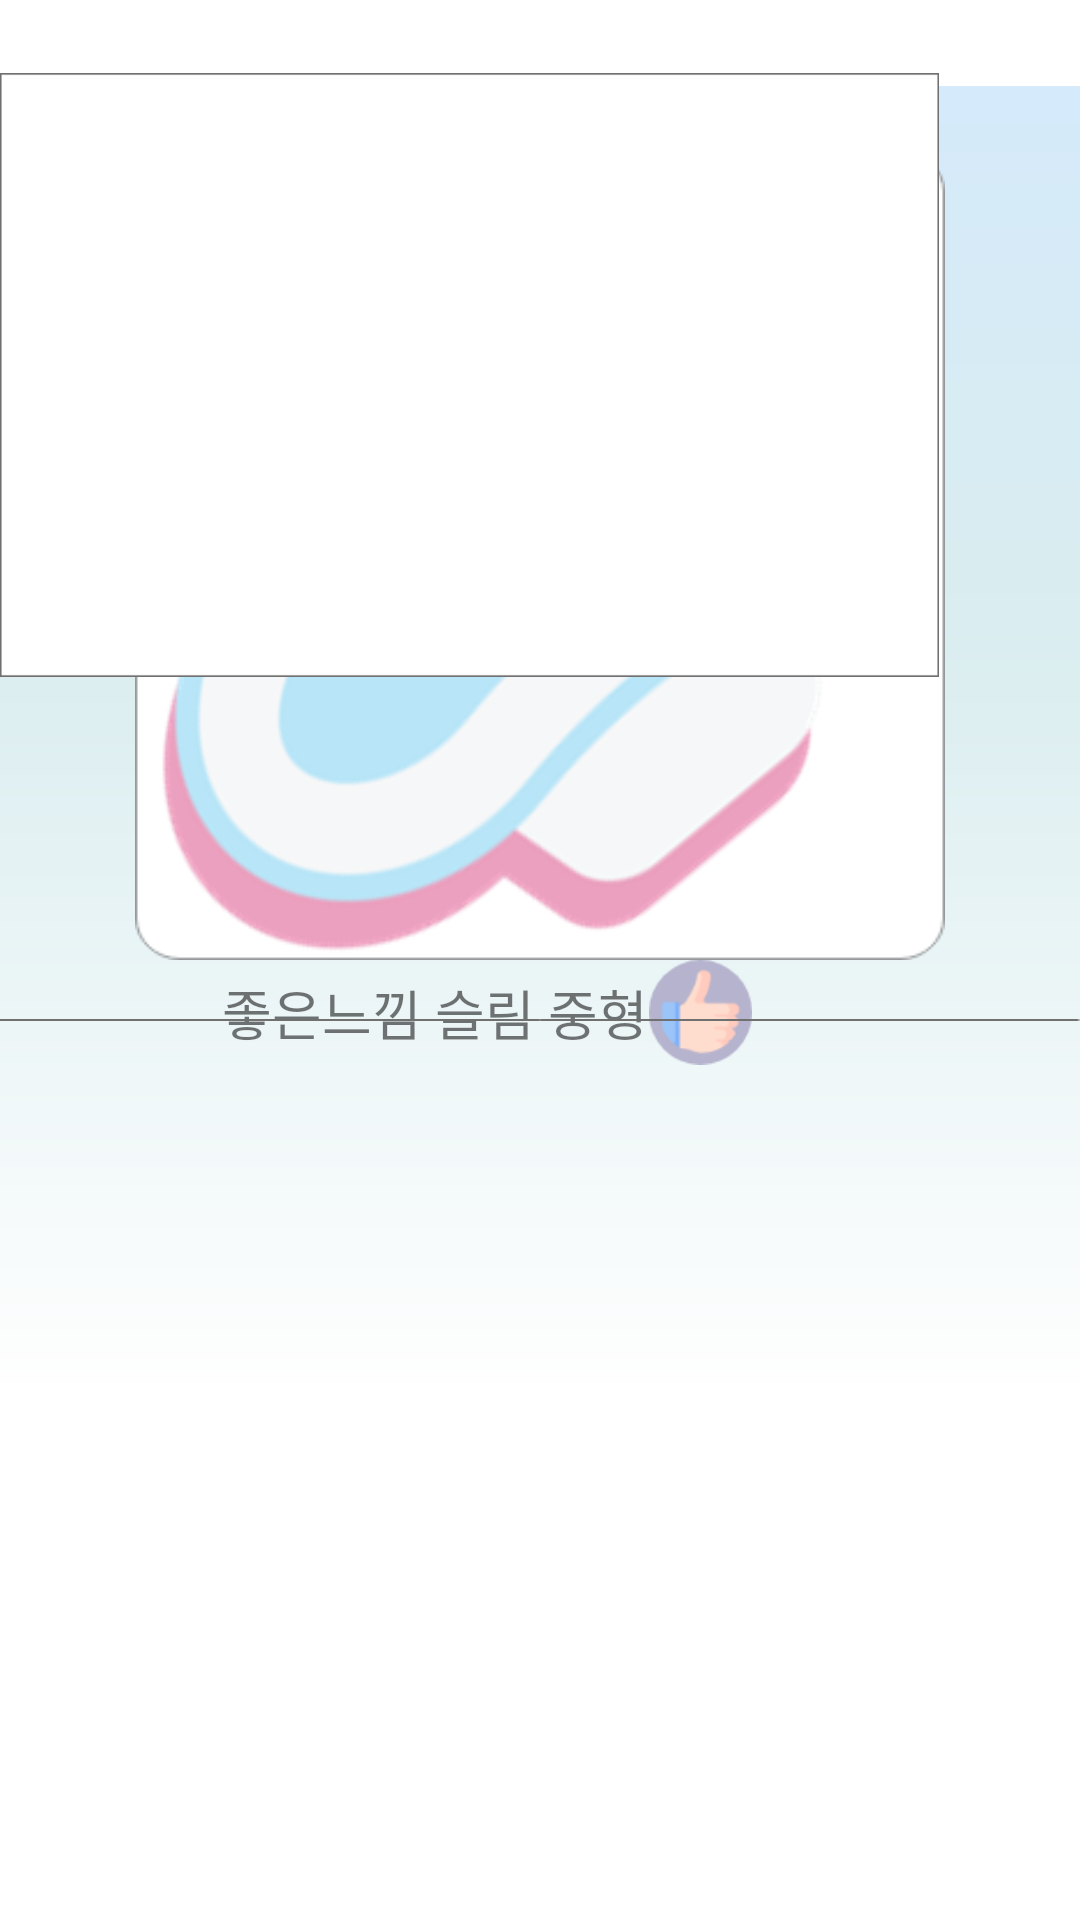

Named icons in this screenshot (1080w x 1920h) and their bounding boxes, {"left": x1, "top": y1, "right": x2, "bottom": y2}:
san thumb upbtn: {"left": 648, "top": 960, "right": 753, "bottom": 1065}
